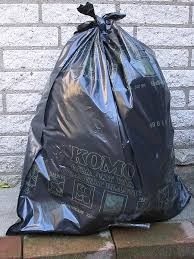Trash: (3, 3, 194, 237)
